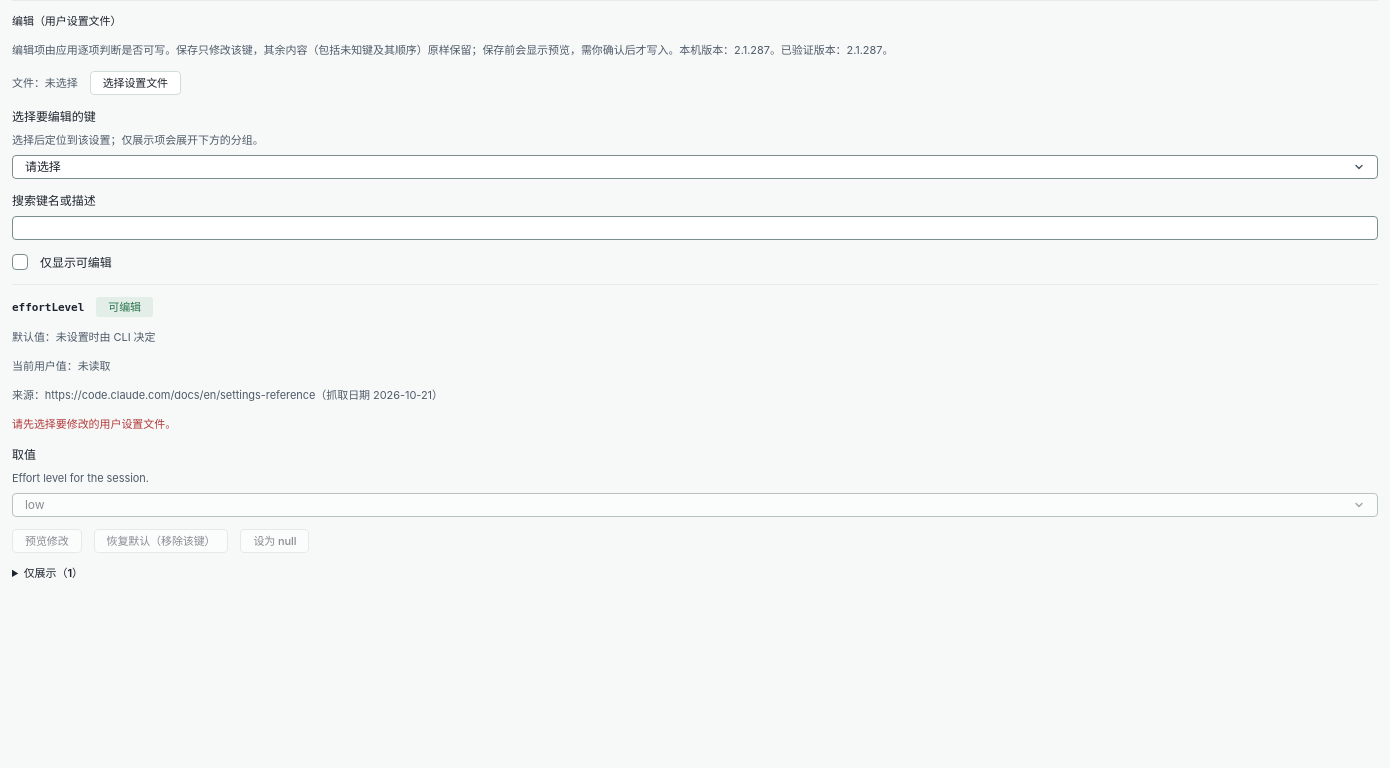
Scenario: EditPanel › names the detected version and lists every key, marking display-only ones
Click the button named "选择要编辑的键".
click(43, 166)  # box [12,155,1378,179]
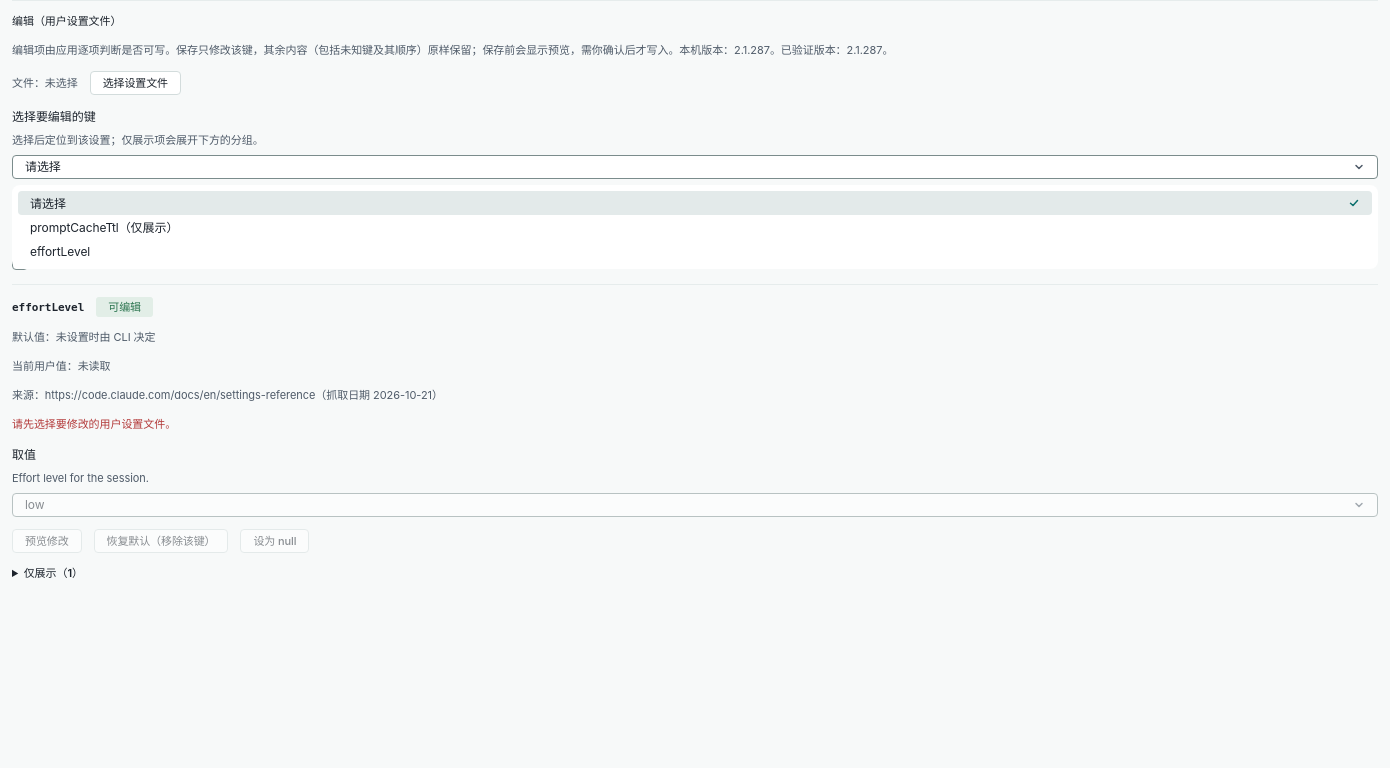
expect the option "promptCacheTtl（仅展示）" is shown: met, box [30,220,178,234]
